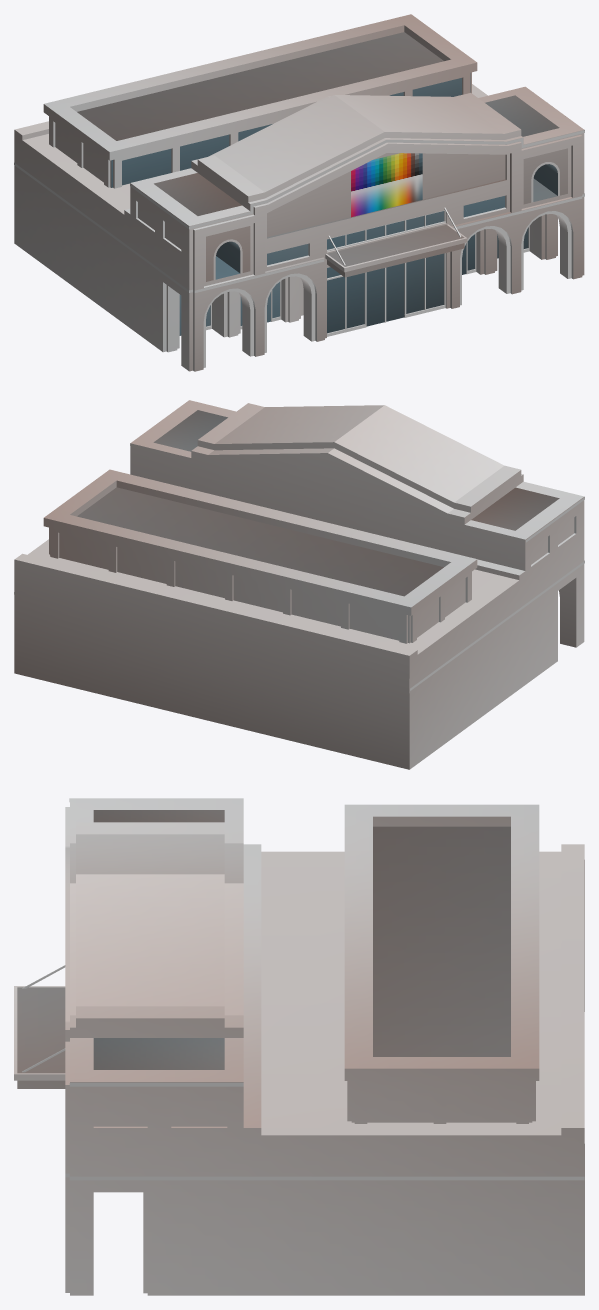
File: RoyalHotel.fbx
3 renders of one model, top to bottom at view 1: azimuth 30°, elevation 25°; view 2: azimuth 150°, elevation 25°; view 3: azimuth 270°, elevation 25°, orthographic. The views are drawn at different scales.
Parts seen in each view (by area): view 1: RoyalHotel; view 2: RoyalHotel; view 3: RoyalHotel.
Boxes of the visible parts, x1,y1,x2,y2 form: RoyalHotel: [14, 14, 584, 371]; RoyalHotel: [14, 400, 584, 769]; RoyalHotel: [14, 798, 584, 1295].
Size of the model in its own units: 4.78 by 2.19 by 4.06.
